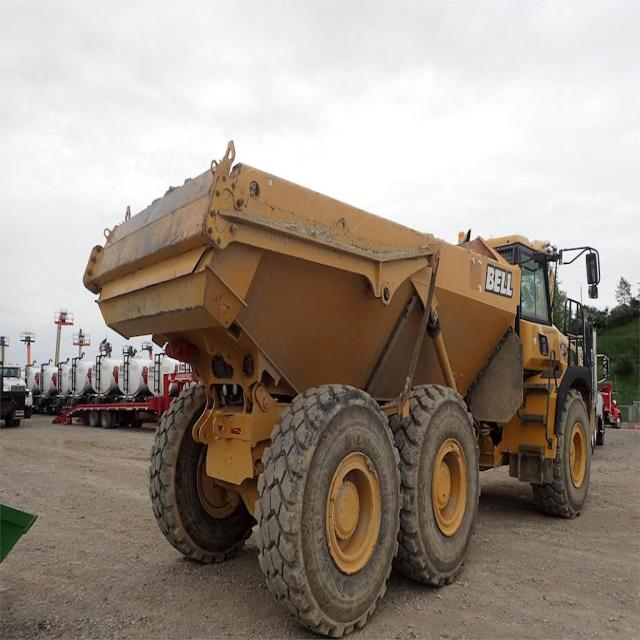dump_truck: (81, 148, 601, 628)
